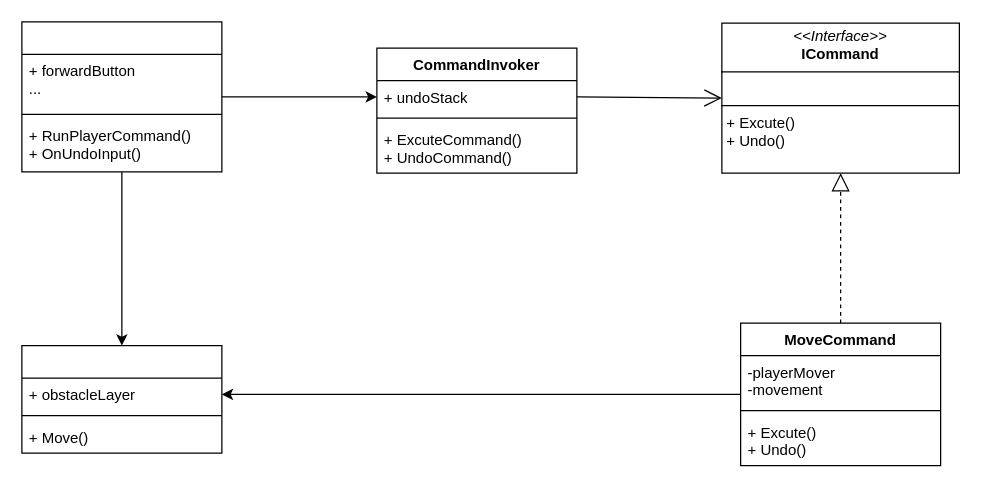
The diagram is 981 pixels wide and 491 high, and some of its shapes have lost their labels. Here are the shapes that lost their labels. From the top down, the box of each, then its label:
(21, 21, 222, 172): InputManager
(21, 344, 222, 453): PlayerMover
